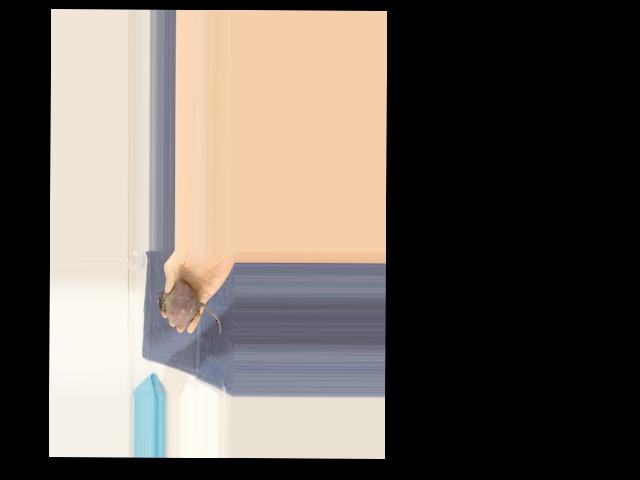beet: (157, 280, 221, 335)
